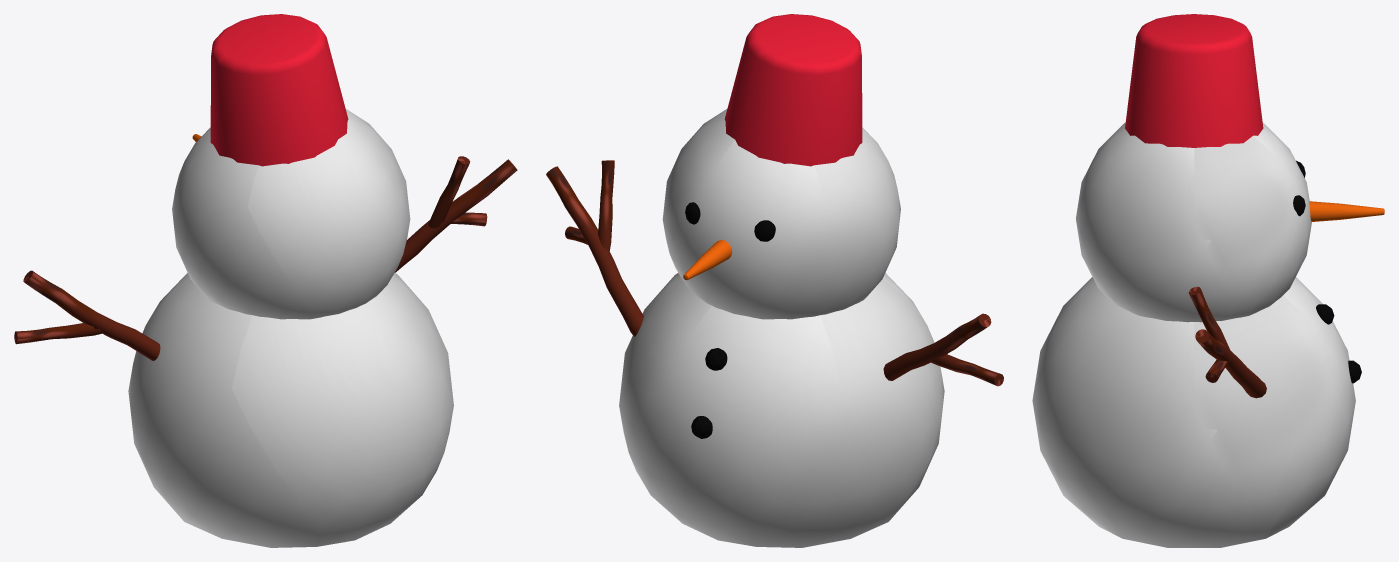
The model's file is snowman.glb.
The picture shows the model from 3 angles, left to right: view 1: azimuth 30°, elevation 25°; view 2: azimuth 150°, elevation 25°; view 3: azimuth 270°, elevation 25°; orthographic projection.
Visible parts, largest first — view 1: ICO球.001, 円柱.001, Line.001; view 2: ICO球.001, 円柱.001, Line.001, ICO球.003, 円柱; view 3: ICO球.001, 円柱.001, Line.001, 円柱, ICO球.003.
Boxes of the visible parts, x1,y1,x2,y2 form: ICO球.001: (128, 109, 453, 547); 円柱.001: (210, 14, 348, 166); Line.001: (14, 156, 517, 360); ICO球.001: (619, 109, 944, 547); 円柱.001: (724, 14, 862, 166); Line.001: (546, 160, 1003, 386); ICO球.003: (685, 202, 775, 438); 円柱: (683, 240, 732, 280); ICO球.001: (1032, 122, 1355, 547); 円柱.001: (1125, 14, 1263, 147); Line.001: (1188, 286, 1266, 398); 円柱: (1309, 201, 1384, 221); ICO球.003: (1293, 160, 1361, 383).
Bounding box in the file's own units: 0.7488 × 0.7124 × 0.4838.
5 materials, 5 textured.
